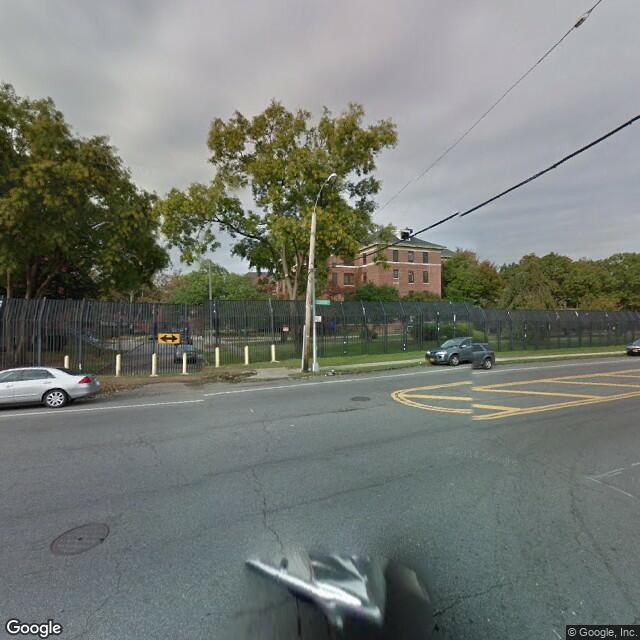litter: (323, 370, 336, 375)
